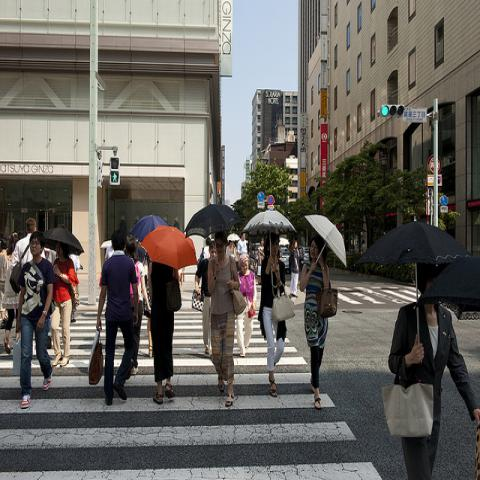car: (280, 246, 290, 274), (303, 253, 309, 261)
